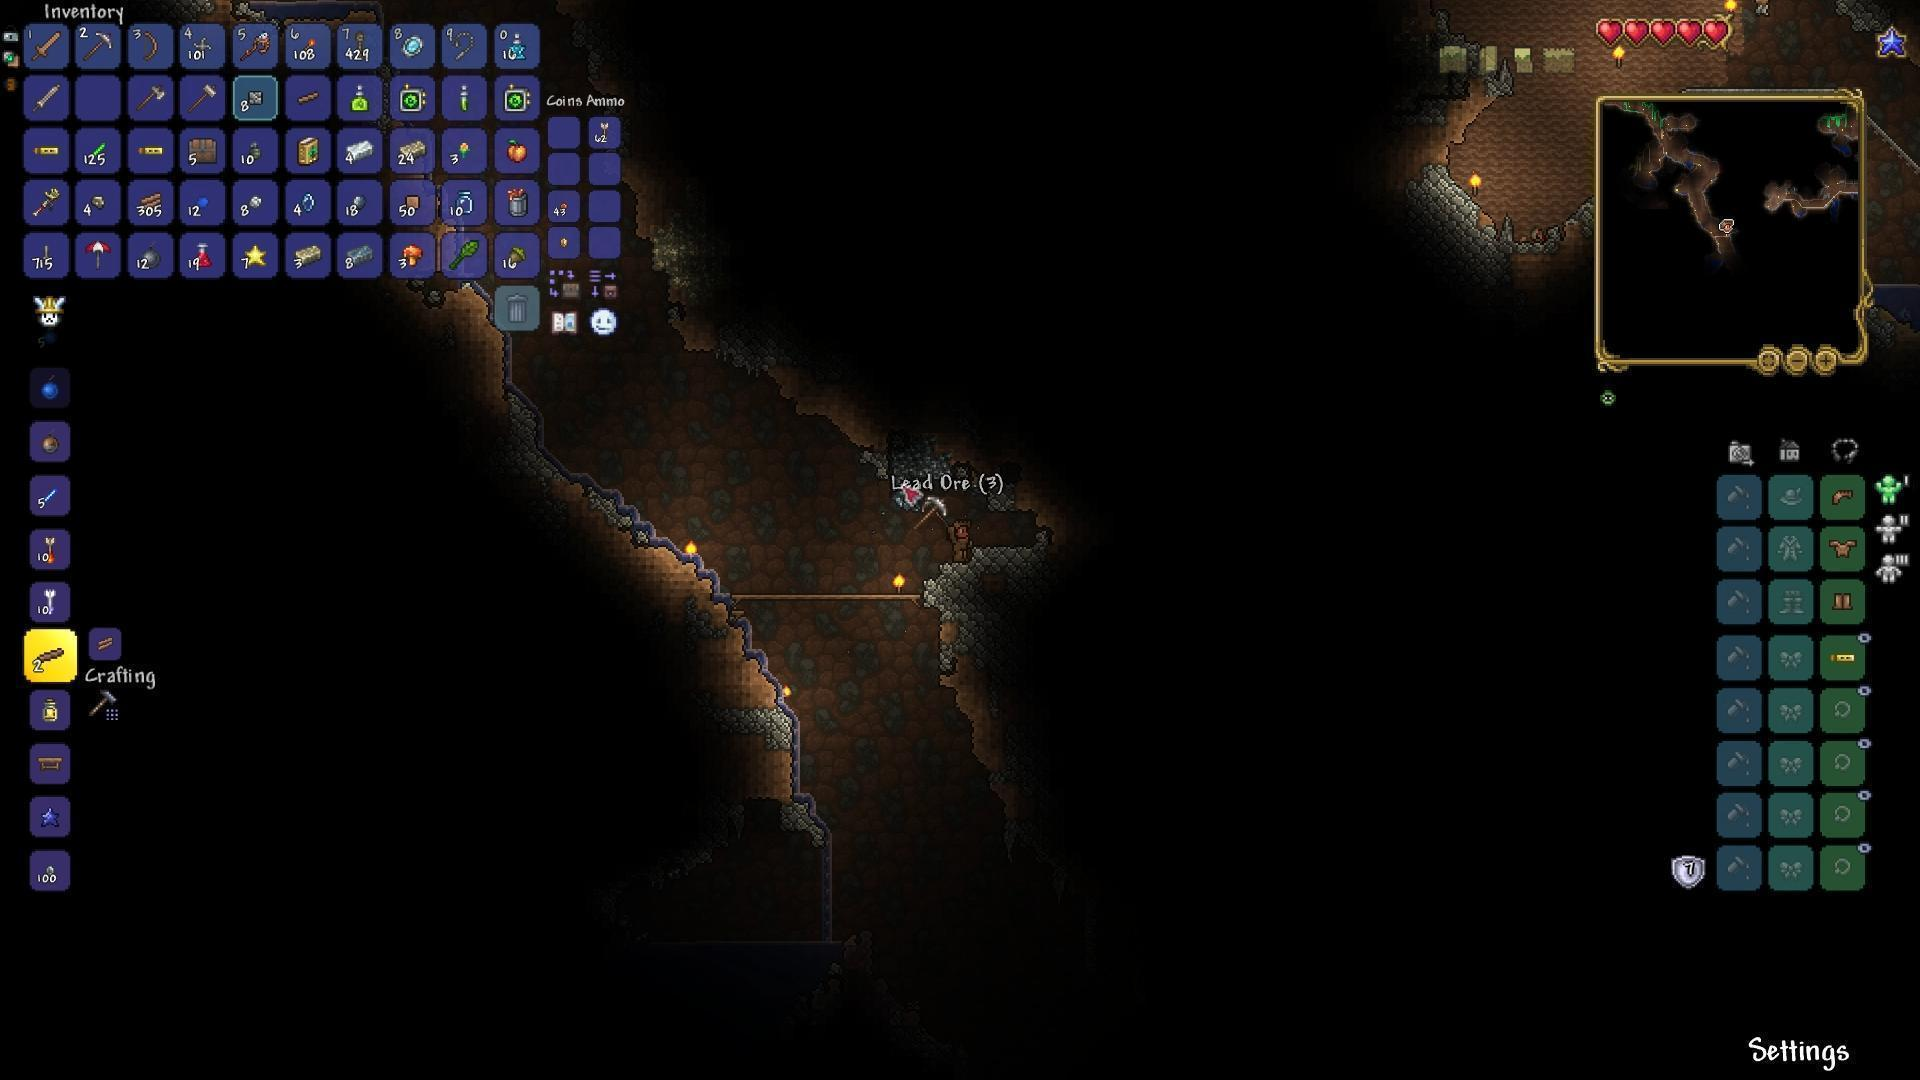arrow: (44, 534, 59, 564), (599, 117, 611, 144), (45, 585, 55, 615)
axe: (135, 84, 167, 111)
bomb: (138, 243, 164, 269)
bow: (142, 30, 161, 61)
breastplate: (1828, 537, 1859, 558)
gel: (195, 196, 212, 208)
glowstick: (87, 137, 108, 162)
grenade: (248, 136, 262, 161)
helmet: (1829, 488, 1858, 506)
knife: (41, 241, 51, 266)
legs: (1829, 589, 1857, 613)
lens: (302, 186, 315, 216)
pickaxe: (80, 30, 116, 61)
platform: (731, 607, 748, 624)
recallP: (509, 32, 527, 62)
rope: (349, 28, 365, 55)
shuriken: (193, 36, 212, 57)
sword: (29, 84, 62, 117), (29, 30, 62, 63)
wood: (137, 187, 167, 210), (94, 633, 116, 654)
workbench: (36, 754, 65, 771)
